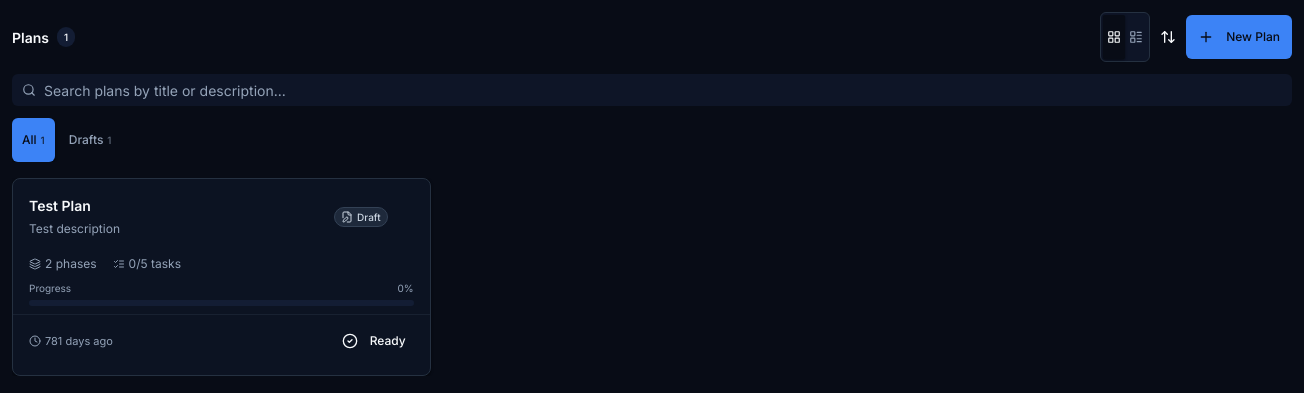
Test case: PlanList › should show empty filter state when no plans match
Step 1. Type "nonexistent query xyz" into the field with placeholder "Search plans by title or description..." → (652, 90), box [12,74,1292,106]
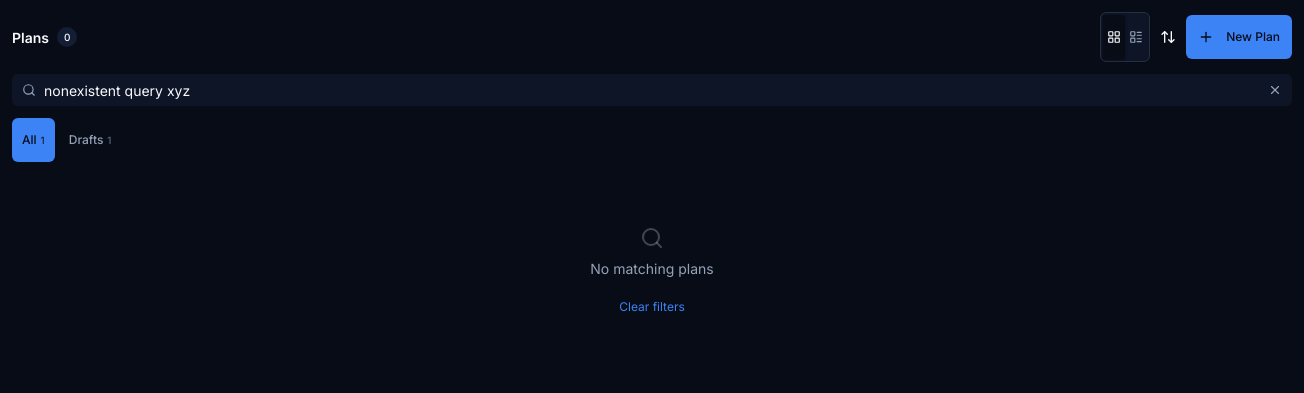
expect the text "No matching plans" is shown: met, box [590,258,714,279]
expect the button "Clear filters" is shown: met, box [619,285,685,329]
